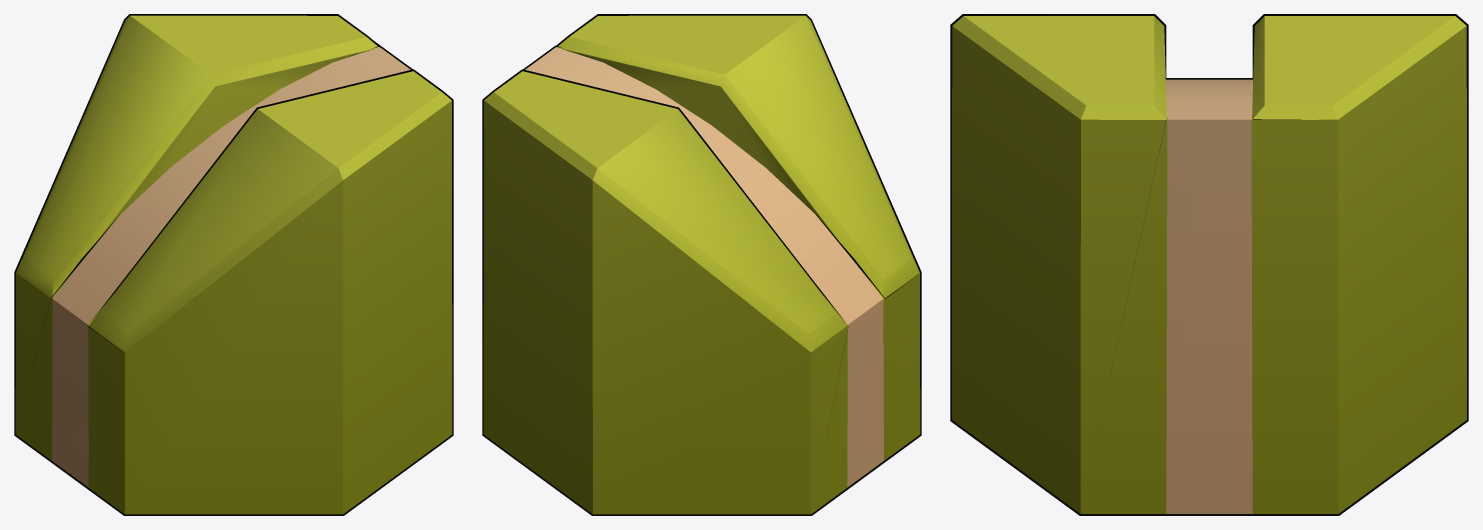
3 renders of one model, left to right at view 1: azimuth 30°, elevation 25°; view 2: azimuth 150°, elevation 25°; view 3: azimuth 270°, elevation 25°, orthographic. The views are drawn at different scales.
Visible parts, largest first — view 1: hex_road_A_sloped_high; view 2: hex_road_A_sloped_high; view 3: hex_road_A_sloped_high.
Boxes of the visible parts, x1,y1,x2,y2 form: hex_road_A_sloped_high: (14, 14, 453, 515); hex_road_A_sloped_high: (482, 14, 921, 515); hex_road_A_sloped_high: (950, 14, 1468, 515).
Bounding box in the file's own units: 2 × 2 × 2.31.
2 materials, 1 textured.
